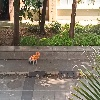fire: (30, 51, 40, 60)
